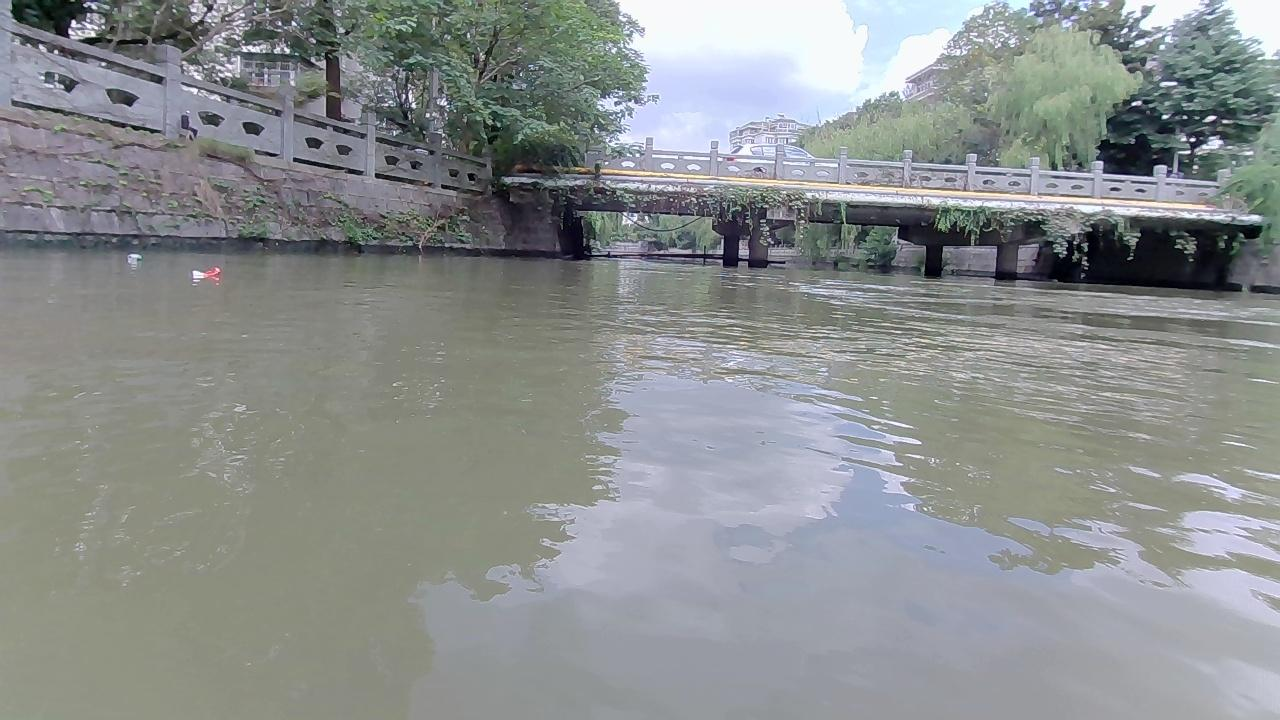bottle: (190, 265, 220, 276), (126, 253, 142, 260)
